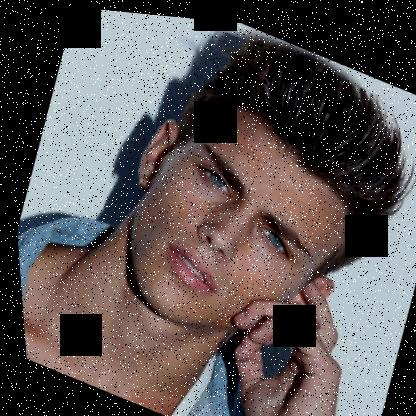Male: (86, 65, 378, 378)
